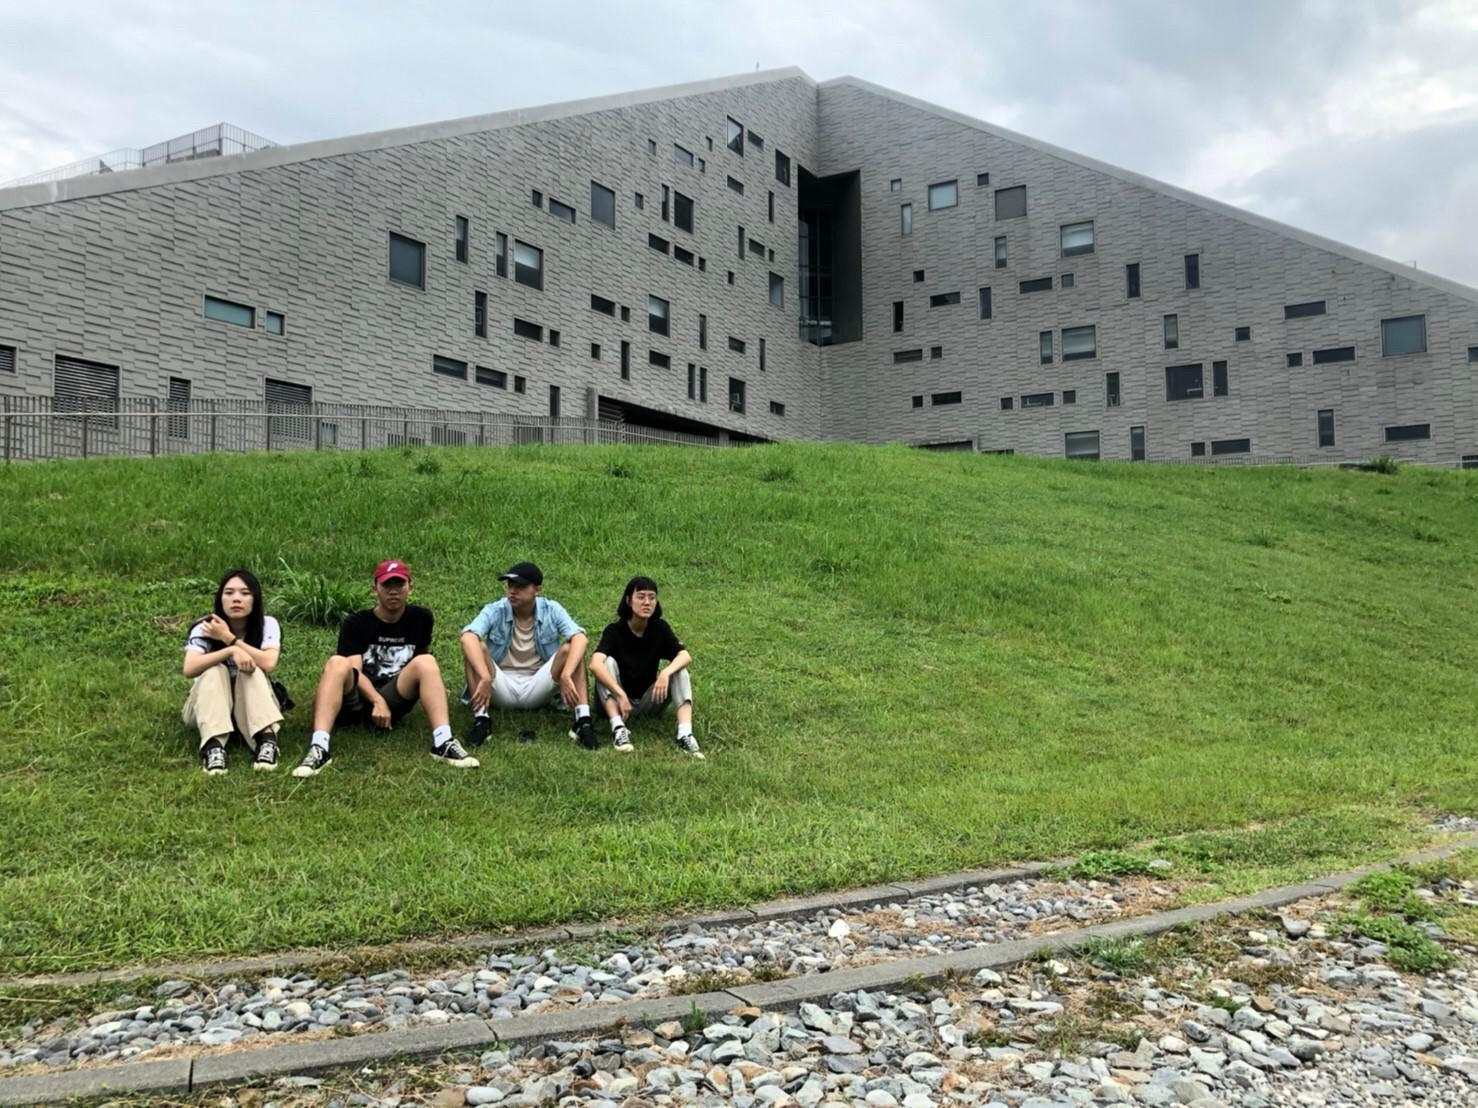people: (463, 569, 579, 732), (338, 575, 444, 750), (596, 592, 704, 750), (200, 565, 283, 769)
